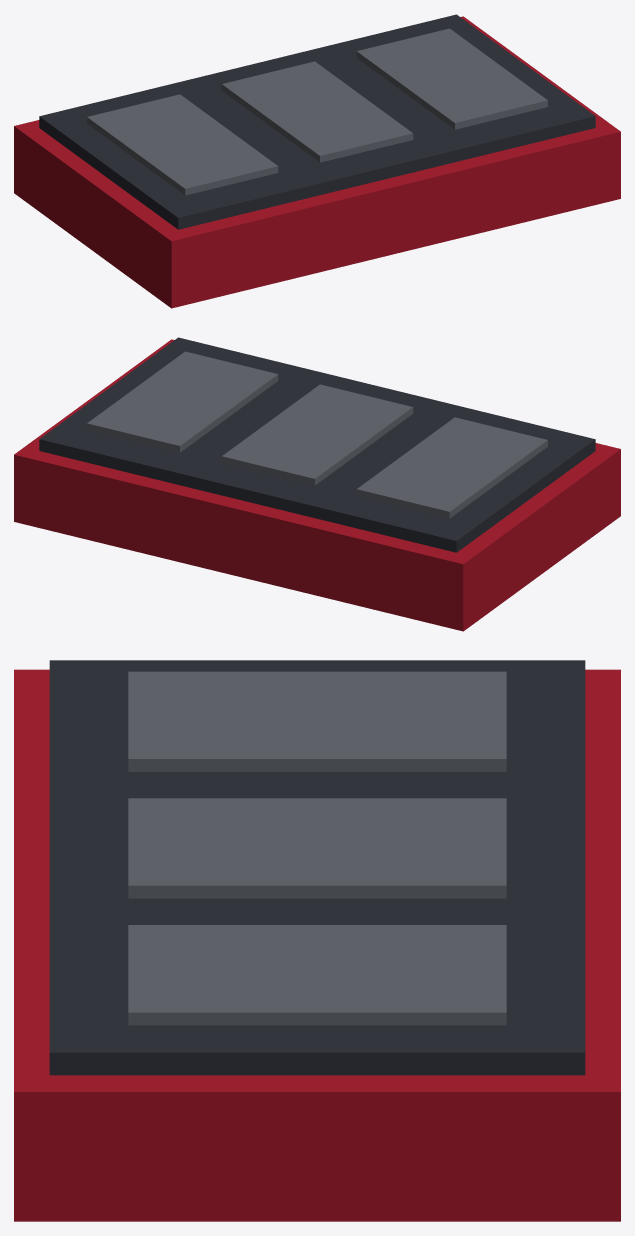
File: foam_briefcase.glb
3 renders of one model, top to bottom at view 1: azimuth 30°, elevation 25°; view 2: azimuth 150°, elevation 25°; view 3: azimuth 270°, elevation 25°, orthographic. The views are drawn at different scales.
Visible parts, largest first — view 1: part_0, part_1, part_3, part_4, part_2; view 2: part_0, part_1, part_3, part_4, part_2; view 3: part_0, part_1, part_2, part_3, part_4.
Boxes of the visible parts, bbox=[...] form: part_0: bbox=[14, 16, 620, 308]; part_1: bbox=[39, 14, 595, 229]; part_3: bbox=[221, 61, 413, 162]; part_4: bbox=[356, 28, 547, 129]; part_2: bbox=[87, 94, 278, 195]; part_0: bbox=[14, 339, 620, 631]; part_1: bbox=[39, 337, 595, 552]; part_3: bbox=[221, 384, 413, 485]; part_4: bbox=[87, 351, 278, 452]; part_2: bbox=[356, 417, 547, 518]; part_0: bbox=[14, 669, 620, 1221]; part_1: bbox=[49, 660, 585, 1075]; part_2: bbox=[128, 671, 506, 771]; part_3: bbox=[128, 798, 506, 898]; part_4: bbox=[128, 925, 506, 1025].
Size of the model in its own units: 1.4 by 0.26 by 0.85.
